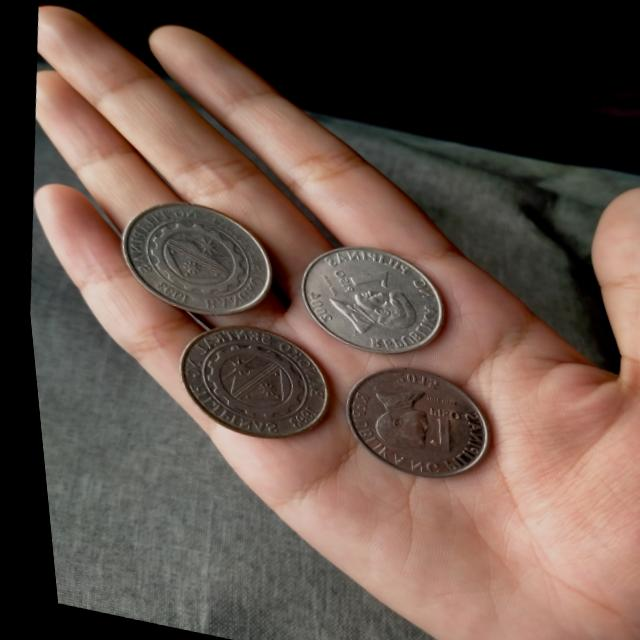1_Old_Back: (178, 325, 311, 429), (129, 210, 262, 307)
